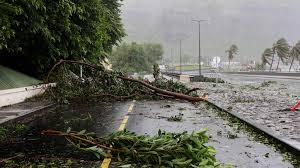obstacle: (40, 121, 226, 168), (69, 61, 208, 112)
